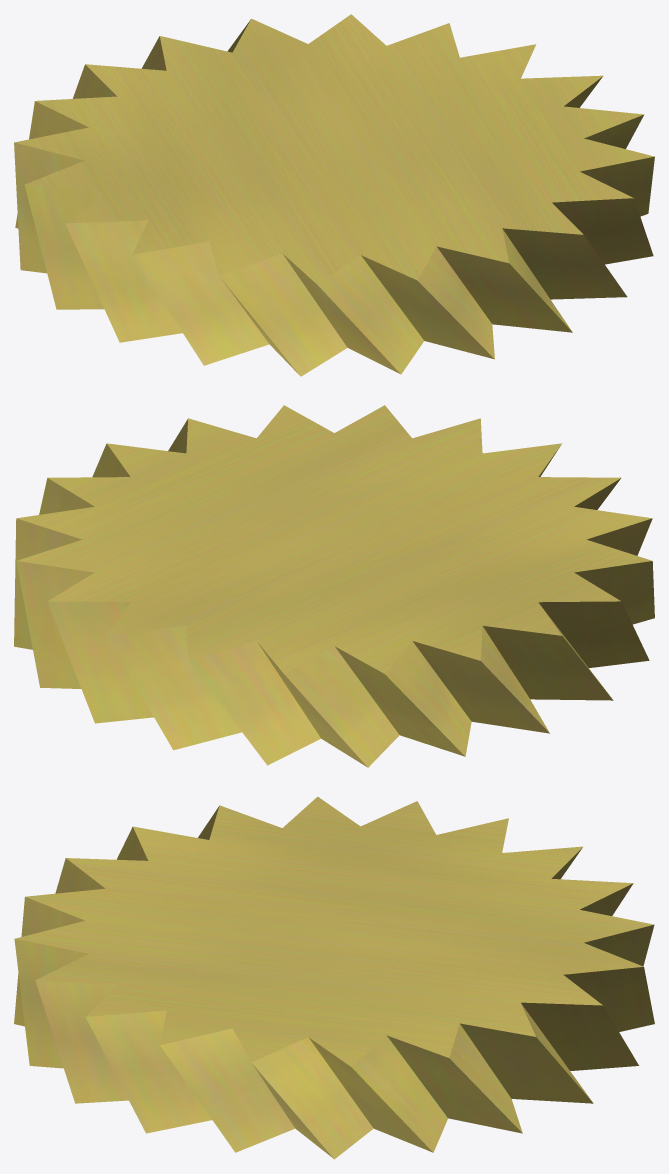
File: ClockStraightSpiralOpp020.fbx
3 renders of one model, top to bottom at view 1: azimuth 30°, elevation 25°; view 2: azimuth 150°, elevation 25°; view 3: azimuth 270°, elevation 25°, orthographic.
Visible parts, largest first — view 1: ClockStraightSpiralOpp020; view 2: ClockStraightSpiralOpp020; view 3: ClockStraightSpiralOpp020.
Boxes of the visible parts, left/top/right/bottom form: ClockStraightSpiralOpp020: left=14, top=14, right=654, bottom=376; ClockStraightSpiralOpp020: left=14, top=405, right=654, bottom=767; ClockStraightSpiralOpp020: left=14, top=796, right=654, bottom=1159.
Size of the model in its own units: 124 by 19.69 by 124.
